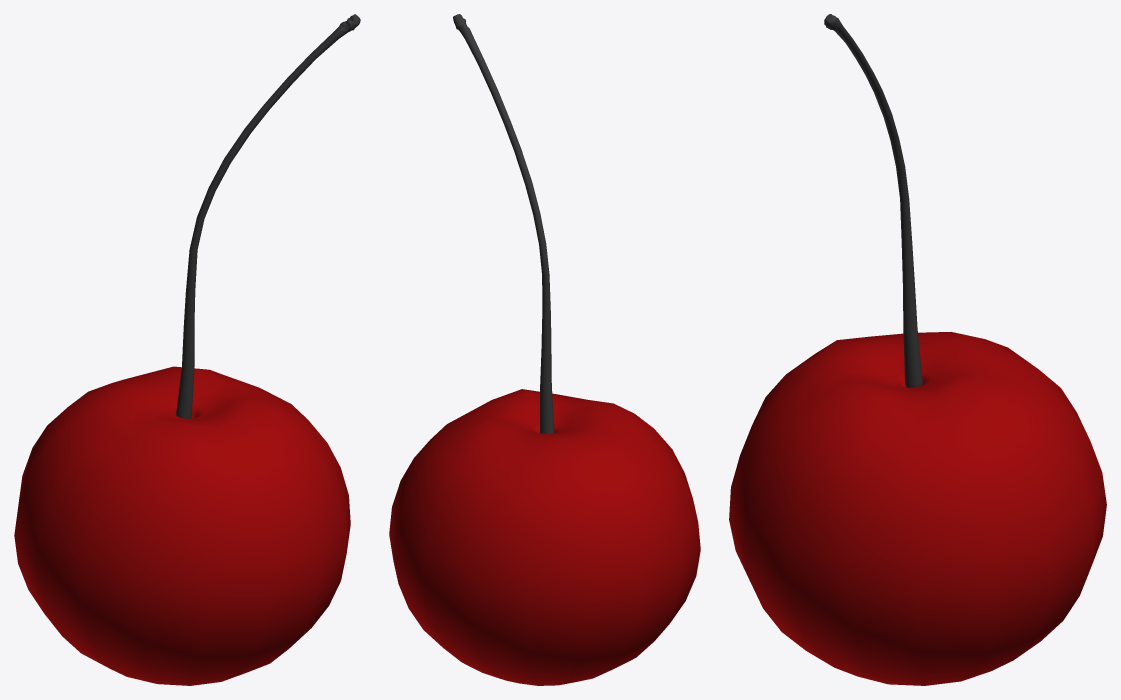
The model's file is Cherry.fbx.
3 views of the same model, side by side, from view 1: azimuth 30°, elevation 25°; view 2: azimuth 150°, elevation 25°; view 3: azimuth 270°, elevation 25° (orthographic). The views are drawn at different scales.
Parts seen in each view (by area): view 1: Cherry; view 2: Cherry; view 3: Cherry.
Boxes of the visible parts, x1=… form: Cherry: x1=14, y1=14, x2=360, y2=685; Cherry: x1=389, y1=14, x2=700, y2=685; Cherry: x1=729, y1=14, x2=1106, y2=685.
Bounding box in the file's own units: 0.5292 × 0.5289 × 1.12.
